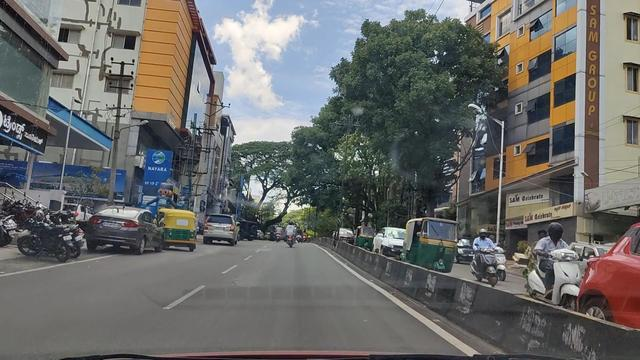LMV: (88, 198, 165, 259), (154, 209, 199, 253)
